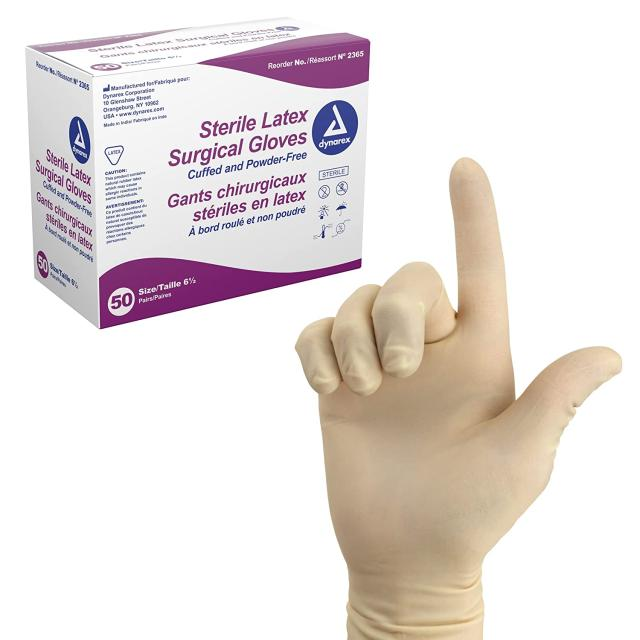Gloves: (301, 168, 632, 640)
